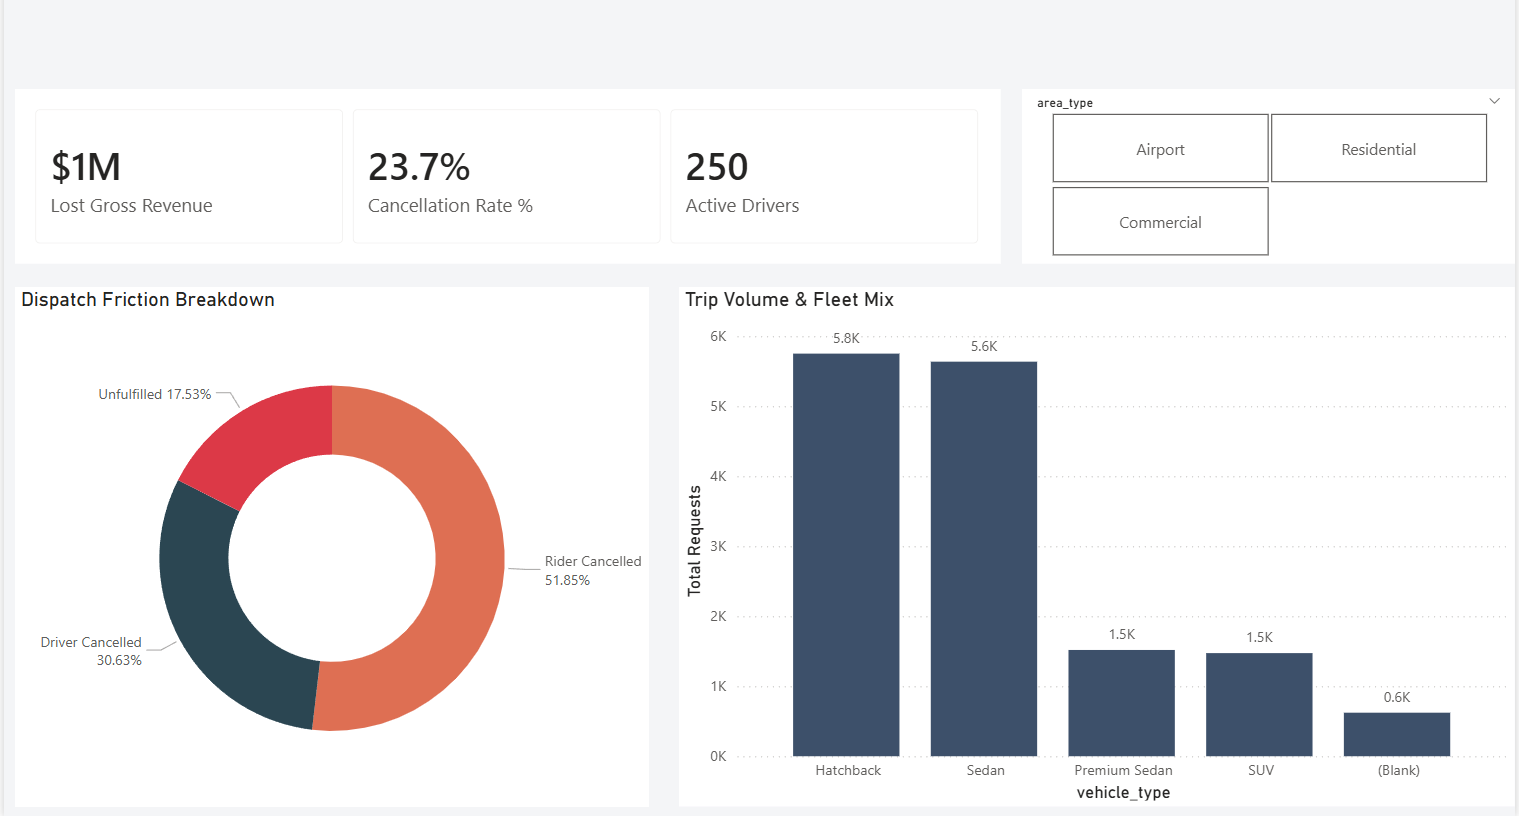

What the dashboard file says about the page in this screenshot:
{"tool":"powerbi","page":{"name":"Friction & Supply","canvas":[1280,720],"ordinal":1},"visuals":[{"type":"cardVisual","fields":{"Data":["_Measures.Lost Gross Revenue","_Measures.Cancellation Rate %","_Measures.Active Drivers"]},"box":[9.3,103.7,835.4,148.2],"z":0},{"type":"donutChart","title":"Dispatch Friction Breakdown","fields":{"Category":["fact_trips.trip_status"],"Y":["CountNonNull(fact_trips.trip_id)"]},"box":[9.3,271.1,537,440.5],"z":1},{"type":"clusteredColumnChart","title":"Trip Volume & Fleet Mix","fields":{"Category":["dim_drivers.vehicle_type"],"Y":["fact_trips.Total Requests"]},"box":[571.8,271.1,708.1,440.5],"z":2},{"type":"slicer","fields":{"Values":["dim_zones.area_type"]},"box":[862.3,103.3,417.6,148.2],"z":3}]}

Visuals, with their boxes on the page's 1280x720 design canvas (x1, y1, x2, y2). These are canvas units, not pixel positions in the 1519x816 screenshot, which may show the page scaled, cropped or inside an application window:
cardVisual - _Measures.Lost Gross Revenue x _Measures.Cancellation Rate %: <bbox>9, 104, 845, 252</bbox>
"Dispatch Friction Breakdown" donutChart: <bbox>9, 271, 546, 712</bbox>
"Trip Volume & Fleet Mix" clusteredColumnChart: <bbox>572, 271, 1280, 712</bbox>
slicer - dim_zones.area_type: <bbox>862, 103, 1280, 252</bbox>
